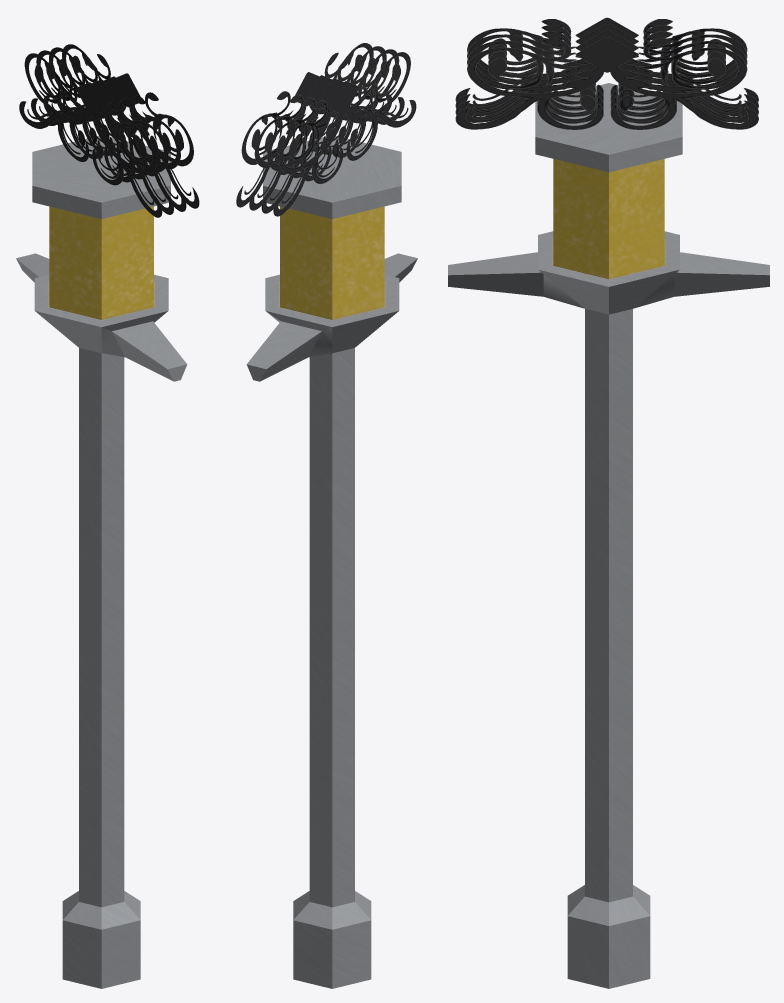
File: streetlight 1.fbx
3 views of the same model, side by side, from view 1: azimuth 30°, elevation 25°; view 2: azimuth 150°, elevation 25°; view 3: azimuth 270°, elevation 25° (orthographic). The views are drawn at different scales.
Visible parts, largest first — view 1: Lighthouse1; view 2: Lighthouse1; view 3: Lighthouse1.
Part boxes in pixels (x1,y1,x2,y2): Lighthouse1: (16, 44, 199, 988); Lighthouse1: (236, 43, 417, 988); Lighthouse1: (448, 17, 769, 988).
Bounding box in the file's own units: 69.29 × 427 × 131.
